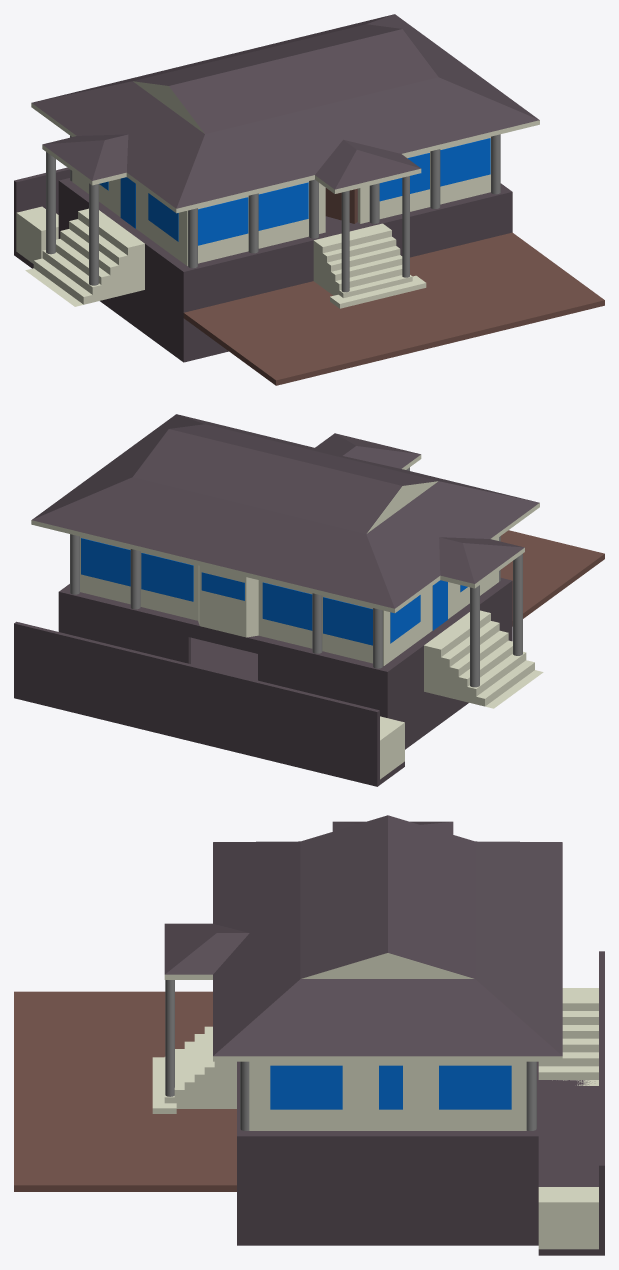
Rendered from bar_plaza_central.fbx.
The picture shows the model from 3 angles, top to bottom: view 1: azimuth 30°, elevation 25°; view 2: azimuth 150°, elevation 25°; view 3: azimuth 270°, elevation 25°; orthographic projection. The views are drawn at different scales.
Parts seen in each view (by area): view 1: _floor; view 2: _floor; view 3: _floor.
Part boxes in pixels (box(x1,y1,x2,y2)): _floor: box(14, 14, 604, 385); _floor: box(14, 414, 604, 786); _floor: box(14, 815, 604, 1255).
Size of the model in its own units: 2404 by 1210 by 2450.
